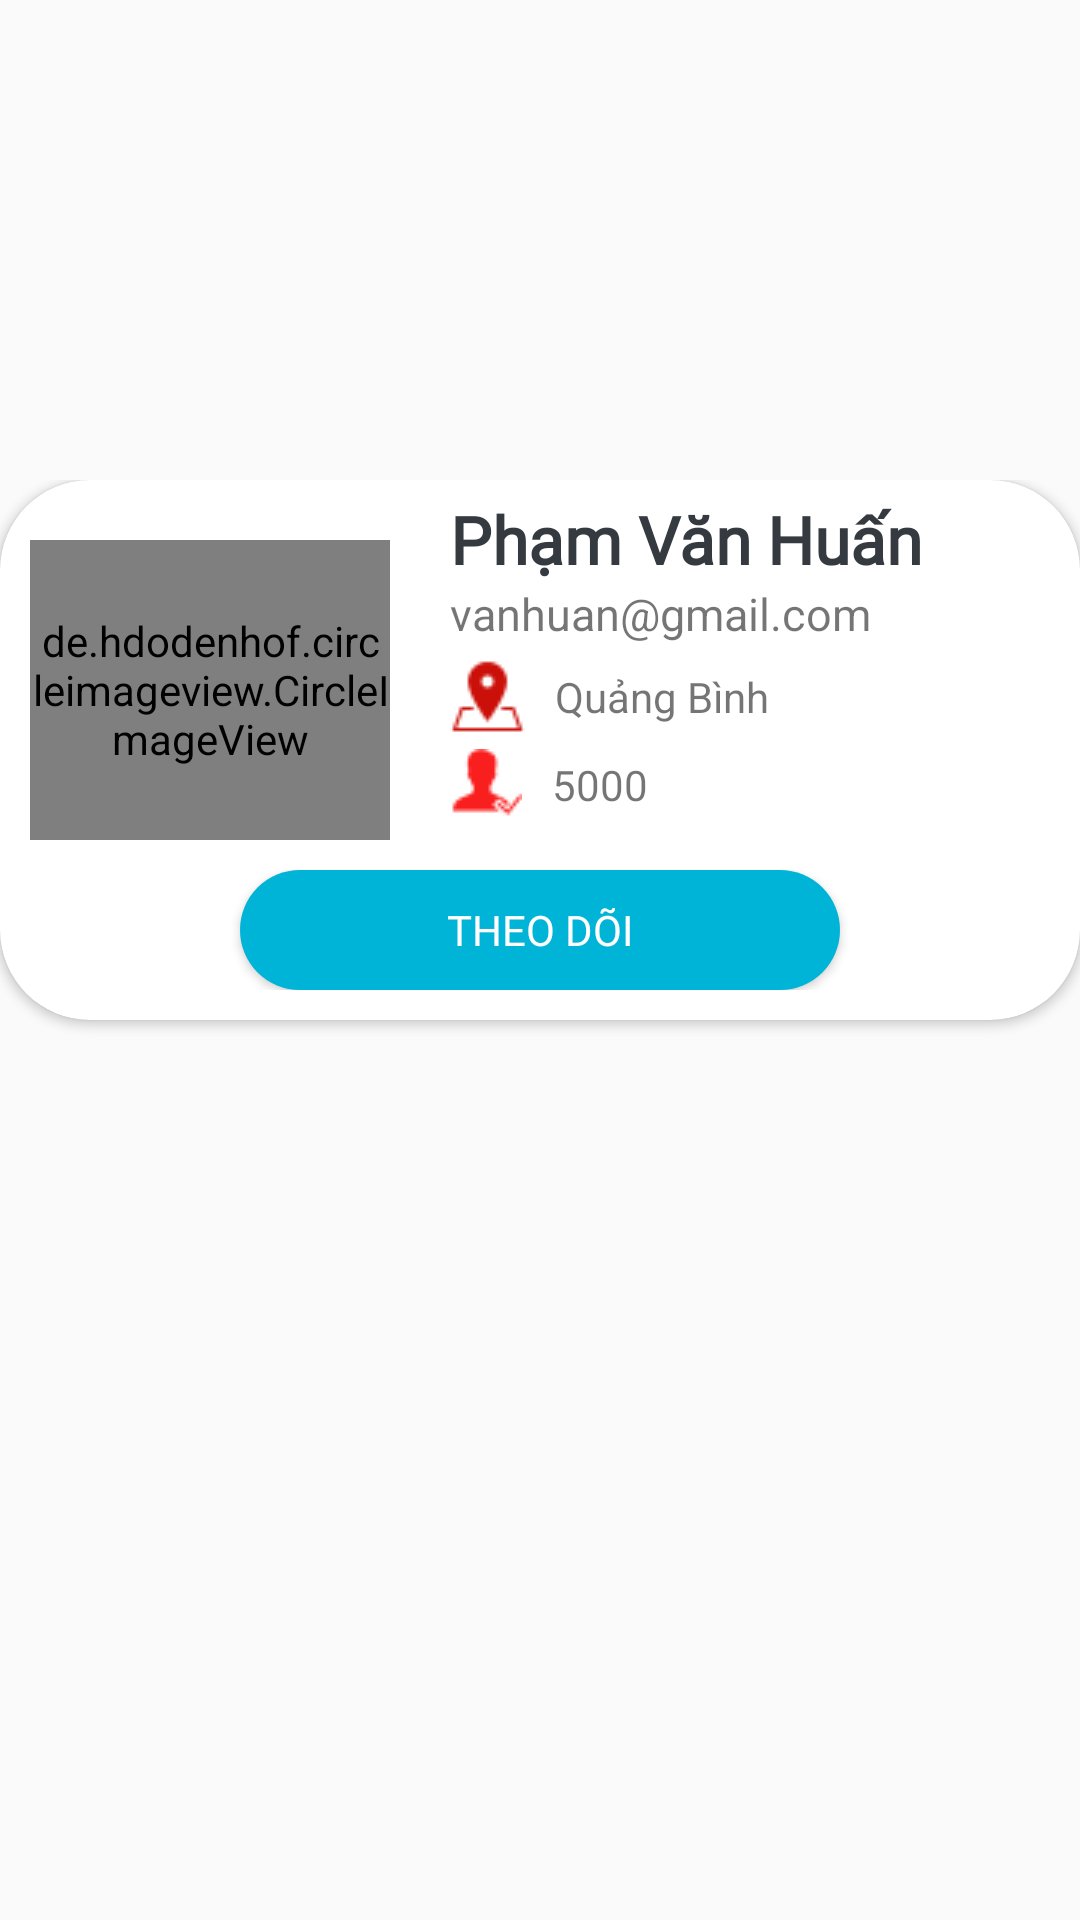

Screen size 1080 × 1920. Icon name, then its center in pixels as (x,y):
address: (487,696)
checked user male: (487,782)
